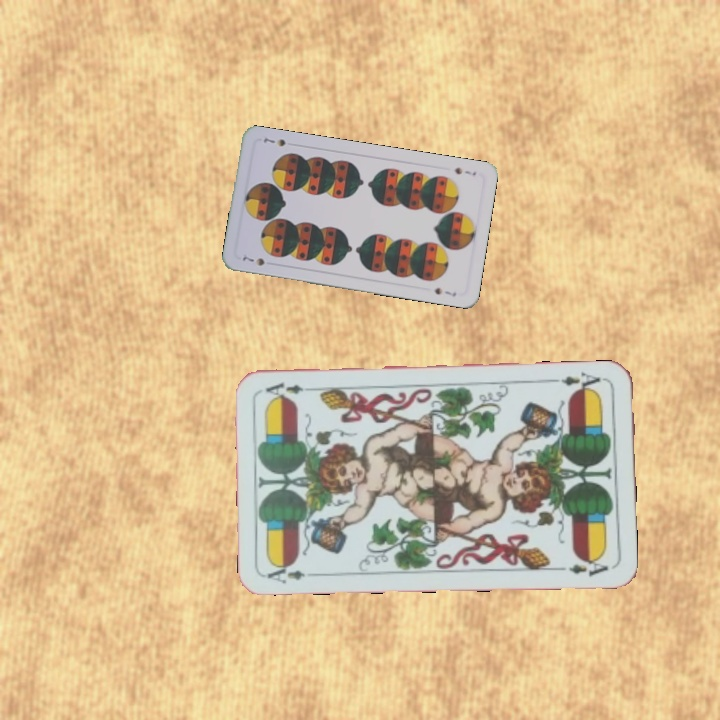EA: (549, 368, 608, 395), (263, 559, 321, 586)
S7: (238, 252, 267, 268), (451, 163, 479, 178)
